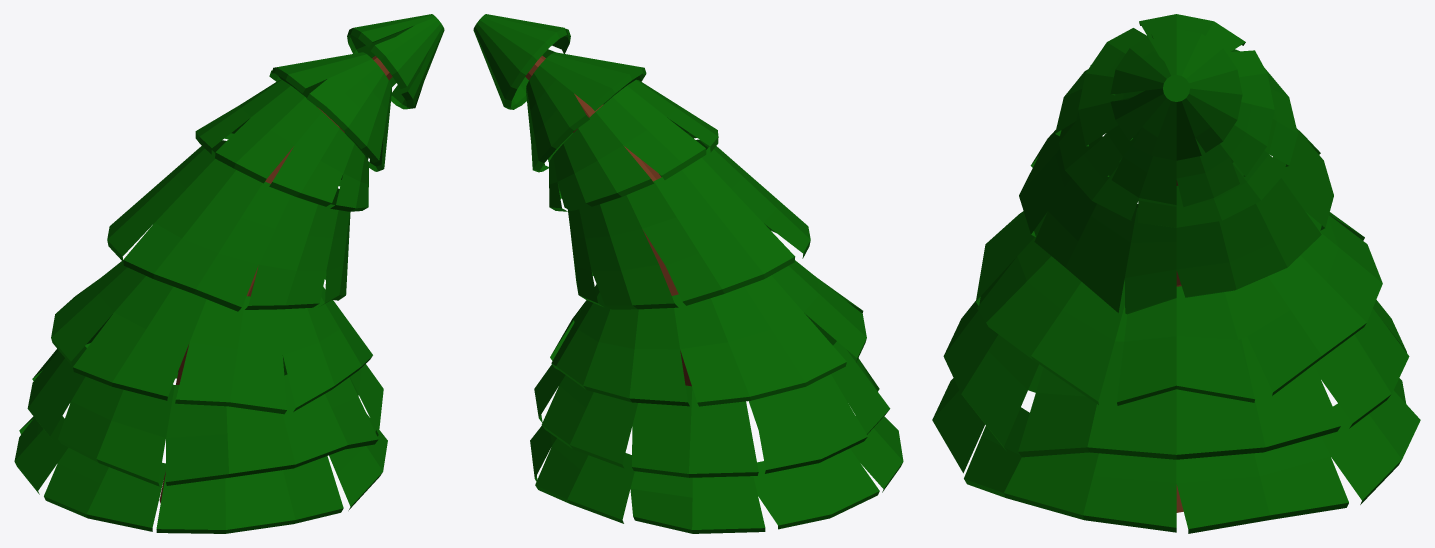
Rendered from Tree3.fbx.
3 renders of one model, left to right at view 1: azimuth 30°, elevation 25°; view 2: azimuth 150°, elevation 25°; view 3: azimuth 270°, elevation 25°, orthographic. The views are drawn at different scales.
Visible parts, largest first — view 1: Pine Tree 2; view 2: Pine Tree 2; view 3: Pine Tree 2.
Boxes of the visible parts, x1,y1,x2,y2 form: Pine Tree 2: [14, 14, 444, 533]; Pine Tree 2: [473, 14, 903, 533]; Pine Tree 2: [932, 14, 1420, 533].
Size of the model in its own units: 1259 by 1292 by 1017.
